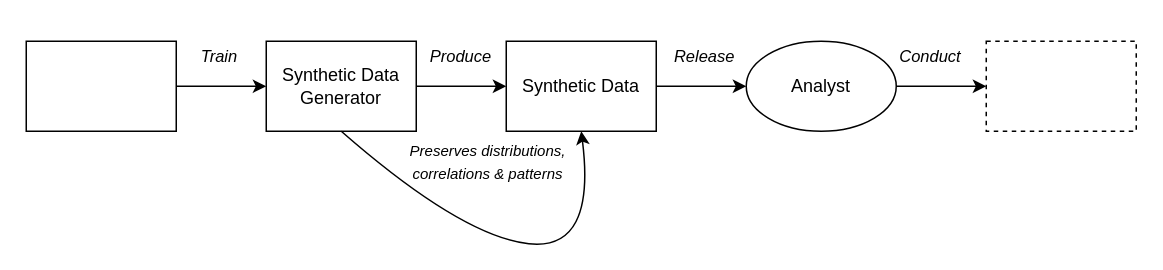
Image size: 1163x270. Some labels were removed from this diagram. The centre of each missing label's shape, as x and y in pixels:
Original Data: the point at 100,85
Statistical Analysis: the point at 1060,85
